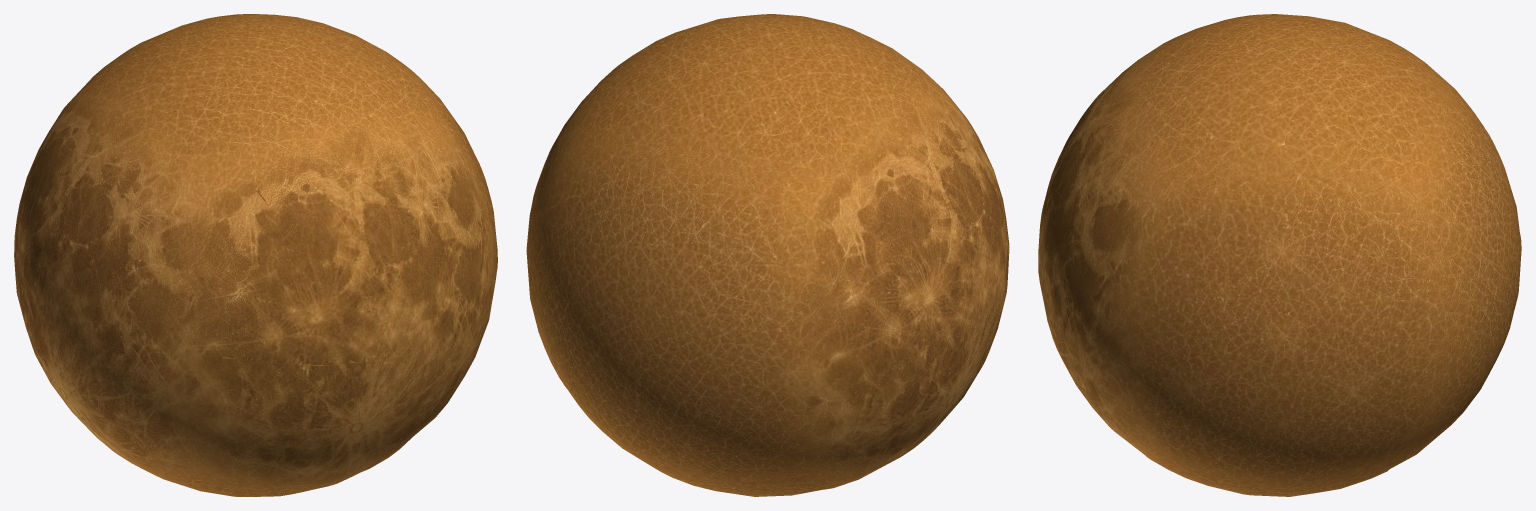
3 views of the same model, side by side, from view 1: azimuth 30°, elevation 25°; view 2: azimuth 150°, elevation 25°; view 3: azimuth 270°, elevation 25° (orthographic).
Size of the model in its own units: 1.89 by 1.89 by 1.89.
Materials: 1 (1 with a texture image).
